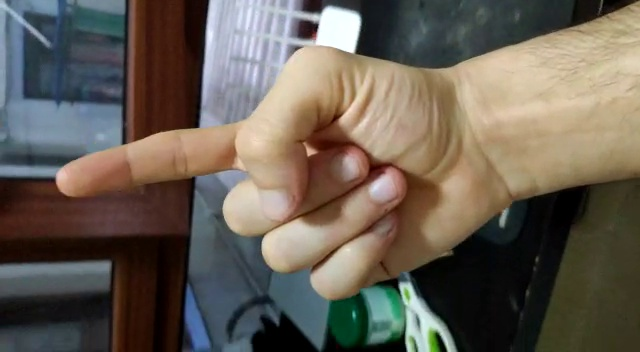One: (49, 114, 262, 205)
